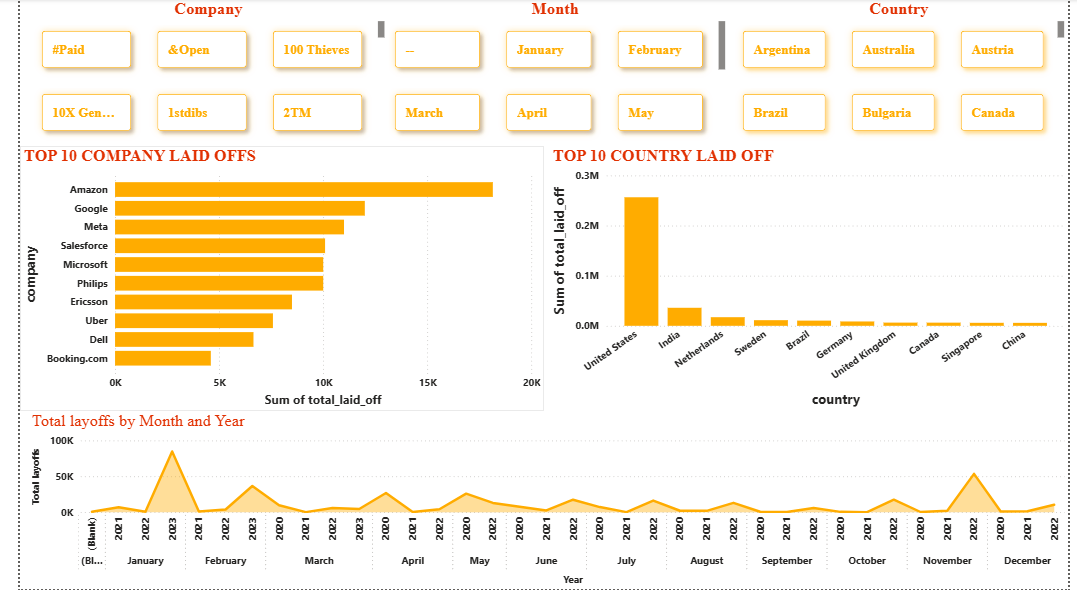

The dashboard page shown, as its layout file describes it:
{"tool":"powerbi","page":{"name":"COMPANY AND COUNTRY ANALYSIS","canvas":[1280,720],"ordinal":1},"visuals":[{"type":"clusteredBarChart","title":"TOP 10 COMPANY LAID OFFS","fields":{"Category":["world_layoffs layoffs_staging2.company"],"Y":["Sum(world_layoffs layoffs_staging2.total_laid_off)"]},"box":[0,178.9,640,323.4],"z":0},{"type":"columnChart","title":"TOP 10 COUNTRY LAID OFF","fields":{"Category":["world_layoffs layoffs_staging2.country"],"Y":["Sum(world_layoffs layoffs_staging2.total_laid_off)"]},"box":[645.5,178.9,634.5,323.4],"z":1000},{"type":"areaChart","fields":{"Category":["Calender.Date.Variation.Date Hierarchy.Month","Calender.Date.Variation.Date Hierarchy.Year"],"Y":["All measure.Total layoffs"]},"box":[9.6,502.4,1270.4,217.5],"z":2000},{"type":"advancedSlicerVisual","fields":{"Values":["Calender.Date.Variation.Date Hierarchy.Month"]},"box":[440.4,0,425.3,178.9],"z":3000},{"type":"advancedSlicerVisual","title":"Country","fields":{"Values":["world_layoffs layoffs_staging2.country"]},"box":[865.7,0,414.3,178.9],"z":4000},{"type":"advancedSlicerVisual","title":"Company","fields":{"Values":["world_layoffs layoffs_staging2.company"]},"box":[9.6,0,440.4,178.9],"z":5000}]}

Visuals, with their boxes in screenshot pixels (x1, y1, x2, y2), scaled from the page's 1280x720 canvas onto the 1077x590 screenshot:
"TOP 10 COMPANY LAID OFFS" clusteredBarChart: <region>0, 147, 538, 412</region>
"TOP 10 COUNTRY LAID OFF" columnChart: <region>543, 147, 1076, 412</region>
areaChart - Calender.Date.Variation.Date Hierarchy.Month x Calender.Date.Variation.Date Hierarchy.Year: <region>8, 412, 1076, 589</region>
advancedSlicerVisual - Calender.Date.Variation.Date Hierarchy.Month: <region>371, 0, 728, 147</region>
"Country" advancedSlicerVisual: <region>728, 0, 1076, 147</region>
"Company" advancedSlicerVisual: <region>8, 0, 379, 147</region>
